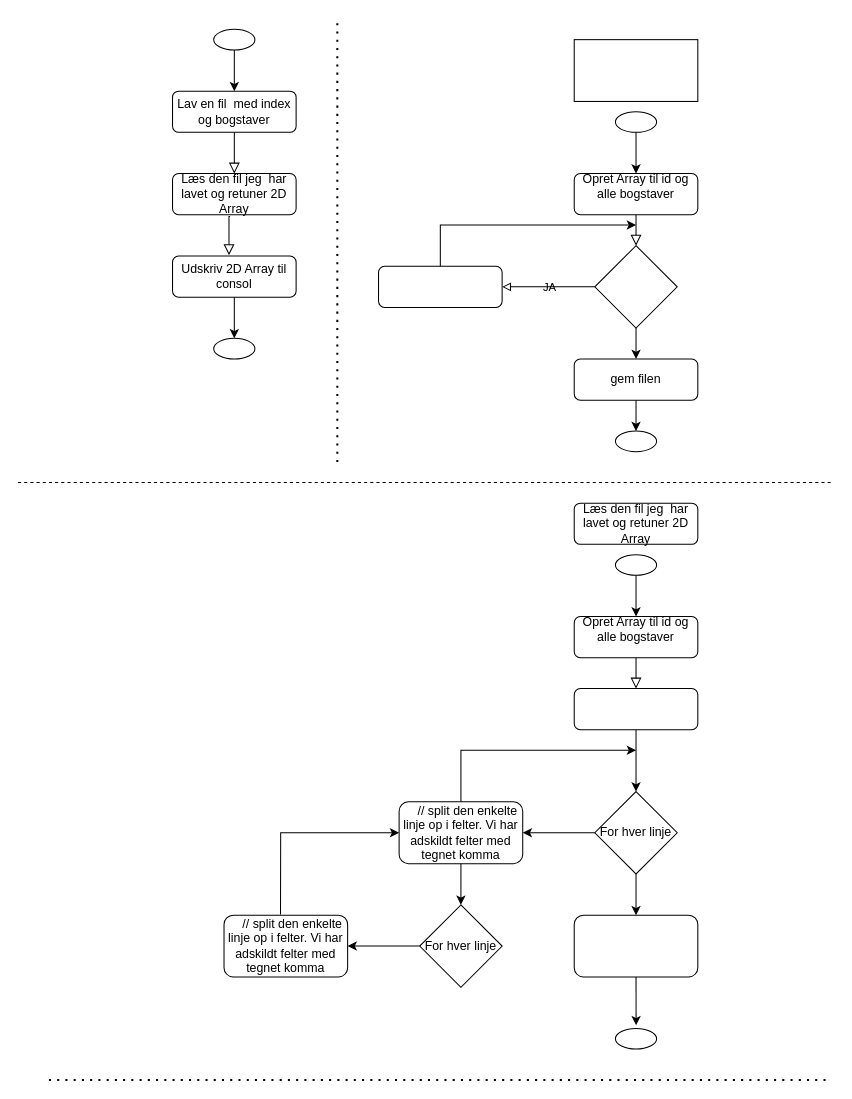
The diagram is 852 pixels wide and 1099 high, and some of its shapes have lost their labels. Each missing label, with the centre of its shape:
"// retuner resultatet" goes at pixel 635 945.
"//Læs fil" goes at pixel 635 709.
"i<25" goes at pixel 635 286.
"Konstruerer linjen id,bogstav" goes at pixel 439 286.
"Lav fil med index og bogstaver" goes at pixel 635 70.
